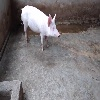heo: (19, 3, 62, 51)
